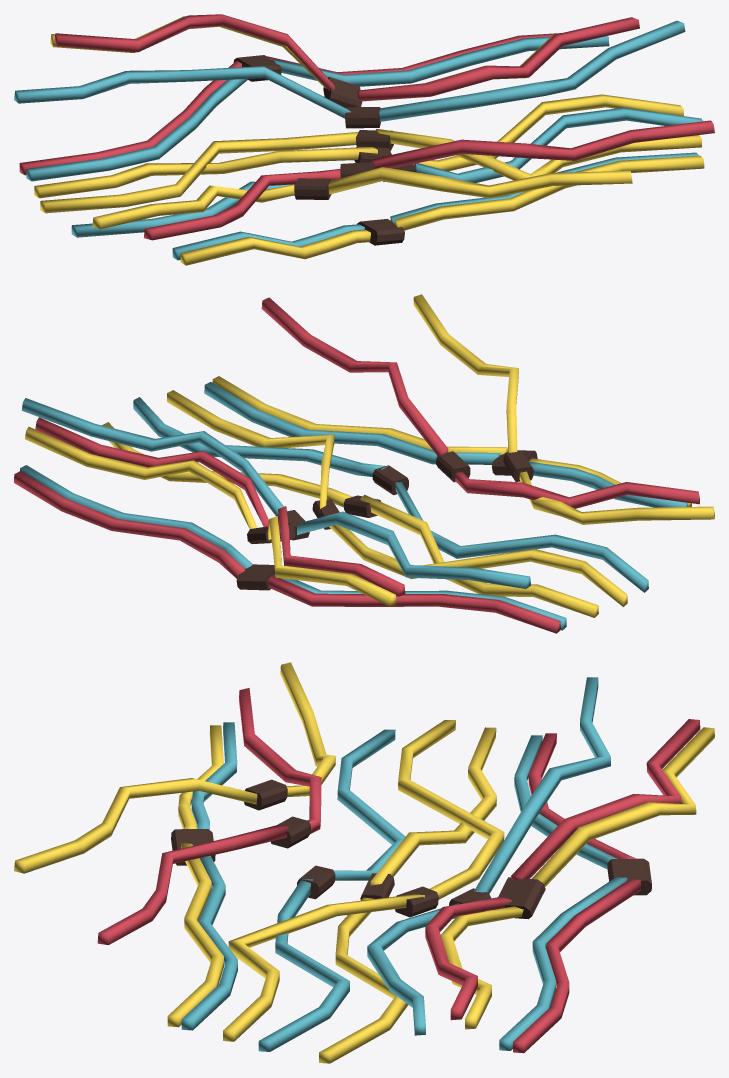
File: Engine_n5.fbx
3 views of the same model, one above another, from view 1: azimuth 30°, elevation 25°; view 2: azimuth 150°, elevation 25°; view 3: azimuth 270°, elevation 25° (orthographic). The views are drawn at different scales.
Parts seen in each view (by area): view 1: 立方体.142, 立方体.140, 立方体.150, 立方体.153, code.002, 立方体.149, 立方体.036, 立方体.037, 立方体.145, code.005, 立方体.148, 立方体.139 (+17 smaller); view 2: 立方体.140, 立方体.157, code.004, 立方体.150, 立方体.144, 立方体.152, 立方体.153, 立方体.143, 立方体.142, 立方体.154, 立方体.149, 立方体.036 (+15 smaller); view 3: 立方体.138, 立方体.153, 立方体.158, 立方体.150, 立方体.037, code.002, 立方体.139, 立方体.144, 立方体.142, 立方体.149, 立方体.141, 立方体.152 (+19 smaller).
Part boxes in pixels (bbox=[...]): 立方体.142: bbox=[371, 120, 714, 169]; 立方体.140: bbox=[379, 20, 685, 121]; 立方体.150: bbox=[40, 132, 358, 213]; 立方体.153: bbox=[14, 66, 350, 118]; code.002: bbox=[328, 167, 632, 198]; 立方体.149: bbox=[34, 147, 377, 198]; 立方体.036: bbox=[357, 17, 639, 101]; 立方体.037: bbox=[54, 14, 334, 90]; 立方体.145: bbox=[273, 36, 609, 86]; code.005: bbox=[394, 155, 704, 230]; 立方体.148: bbox=[26, 66, 248, 181]; 立方体.139: bbox=[413, 107, 703, 182]; 立方体.140: bbox=[21, 398, 287, 516]; 立方体.157: bbox=[268, 575, 560, 633]; code.004: bbox=[204, 382, 500, 464]; 立方体.150: bbox=[329, 524, 627, 606]; 立方体.144: bbox=[14, 471, 245, 578]; 立方体.152: bbox=[395, 482, 648, 592]; 立方体.153: bbox=[296, 511, 530, 588]; 立方体.143: bbox=[25, 426, 257, 528]; 立方体.142: bbox=[261, 297, 448, 455]; 立方体.154: bbox=[455, 471, 699, 508]; 立方体.149: bbox=[360, 494, 598, 617]; 立方体.036: bbox=[35, 417, 268, 526]; 立方体.138: bbox=[223, 894, 424, 1041]; 立方体.153: bbox=[474, 677, 610, 893]; 立方体.158: bbox=[531, 727, 714, 886]; 立方体.150: bbox=[398, 720, 504, 899]; 立方体.037: bbox=[511, 719, 700, 880]; code.002: bbox=[14, 778, 257, 873]; 立方体.139: bbox=[258, 878, 349, 1051]; 立方体.144: bbox=[513, 879, 640, 1053]; 立方体.142: bbox=[97, 825, 288, 945]; 立方体.149: bbox=[370, 727, 496, 885]; 立方体.141: bbox=[319, 897, 408, 1063]; 立方体.152: bbox=[333, 729, 405, 880].
Bounding box in the file's own units: 13.32 × 1.89 × 10.95.
